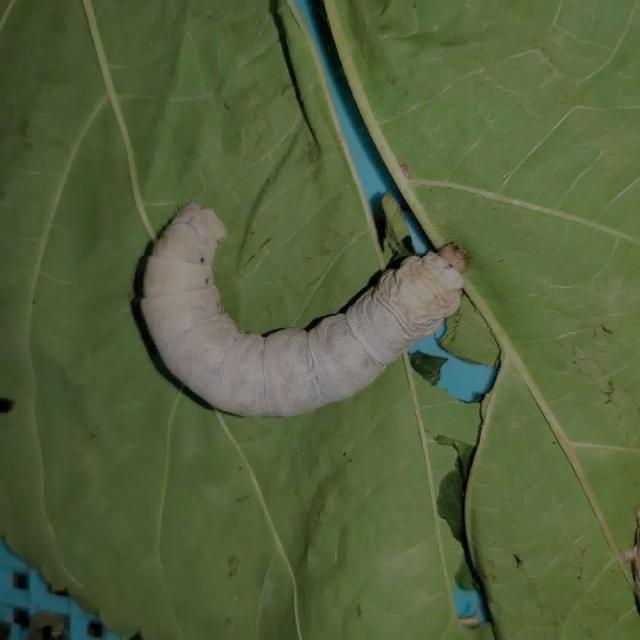Grasserie: (124, 172, 477, 448)
